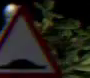Speed Breaker ahead: (0, 3, 58, 77)
